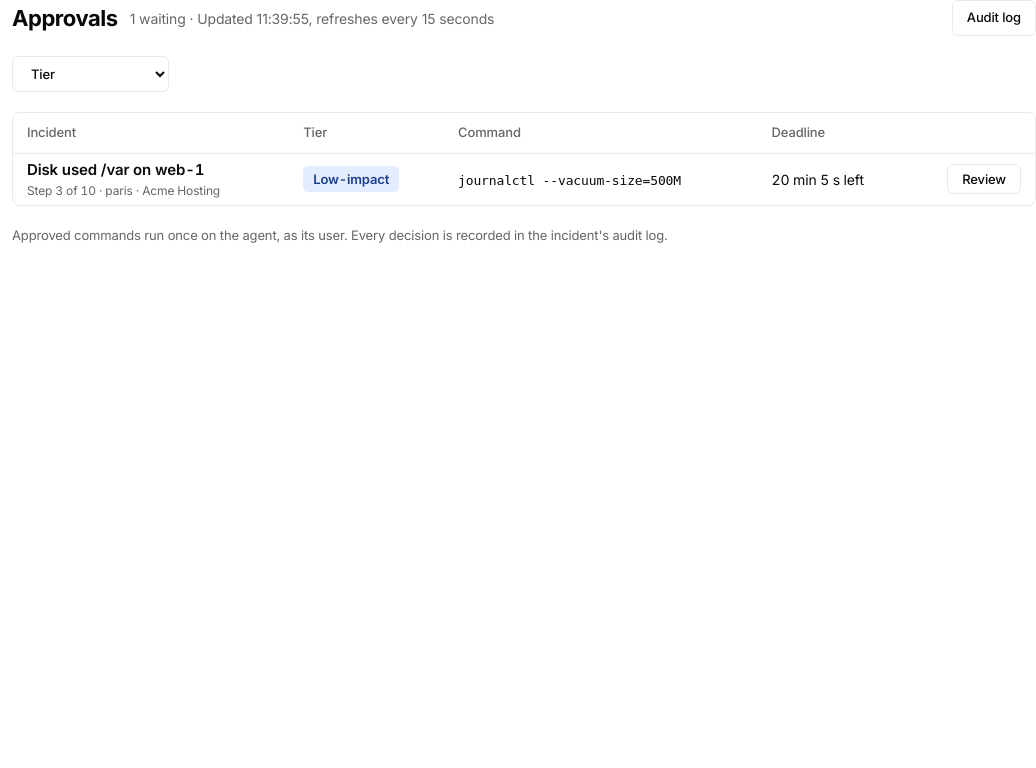
Test case: ApprovalQueue › keeps the detail open with the error when a decision fails otherwise
Click the button with aria-label "Review the command for web-1". click: (984, 179)
box: [947,164,1021,194]
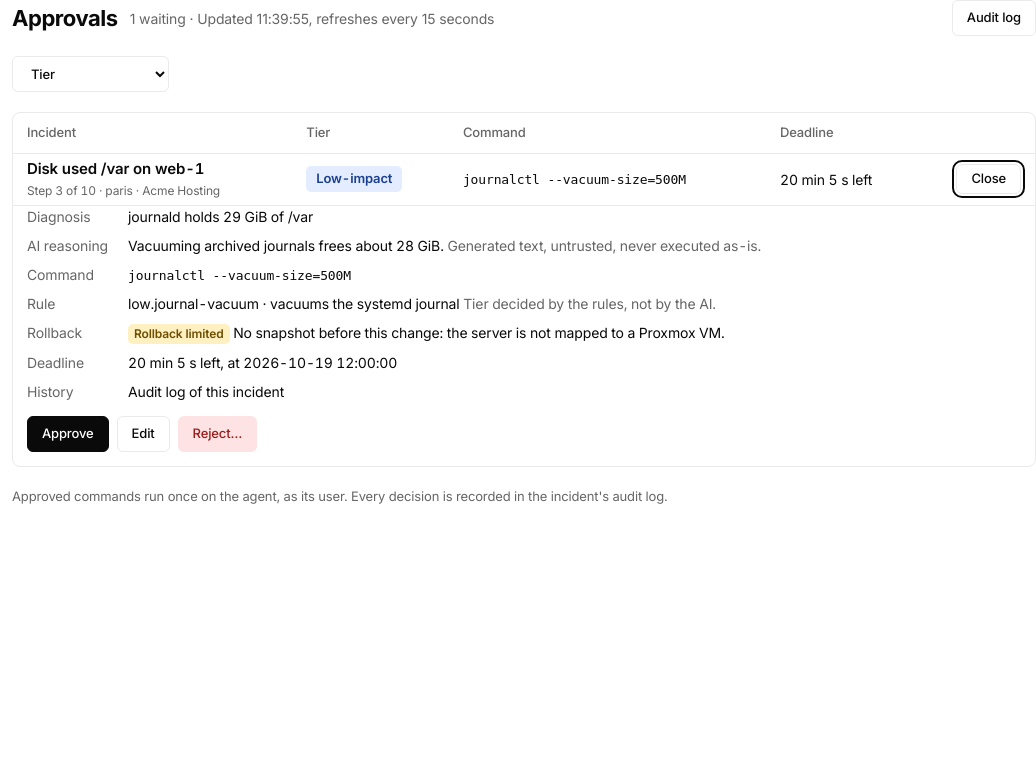
Click the button "Approve". click: (68, 434)
box: [27,416,109,452]
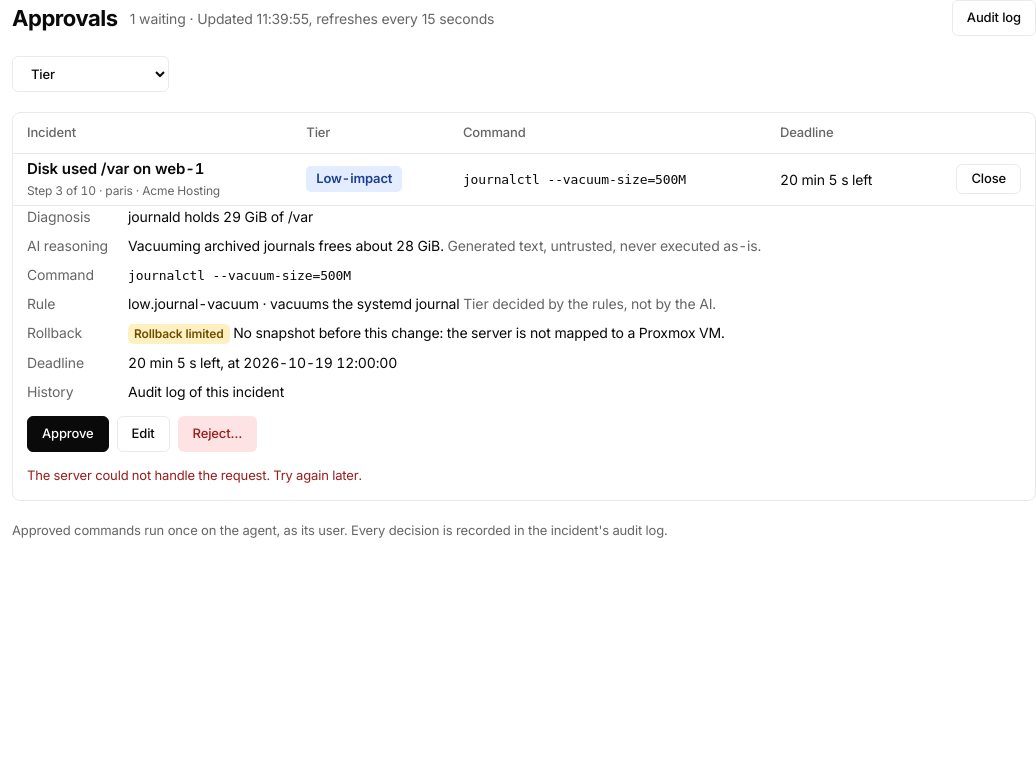
Check: the button "Approve" is enabled, box [27,416,109,452]
Check: the message shows "could not handle the request", box [27,467,362,483]
